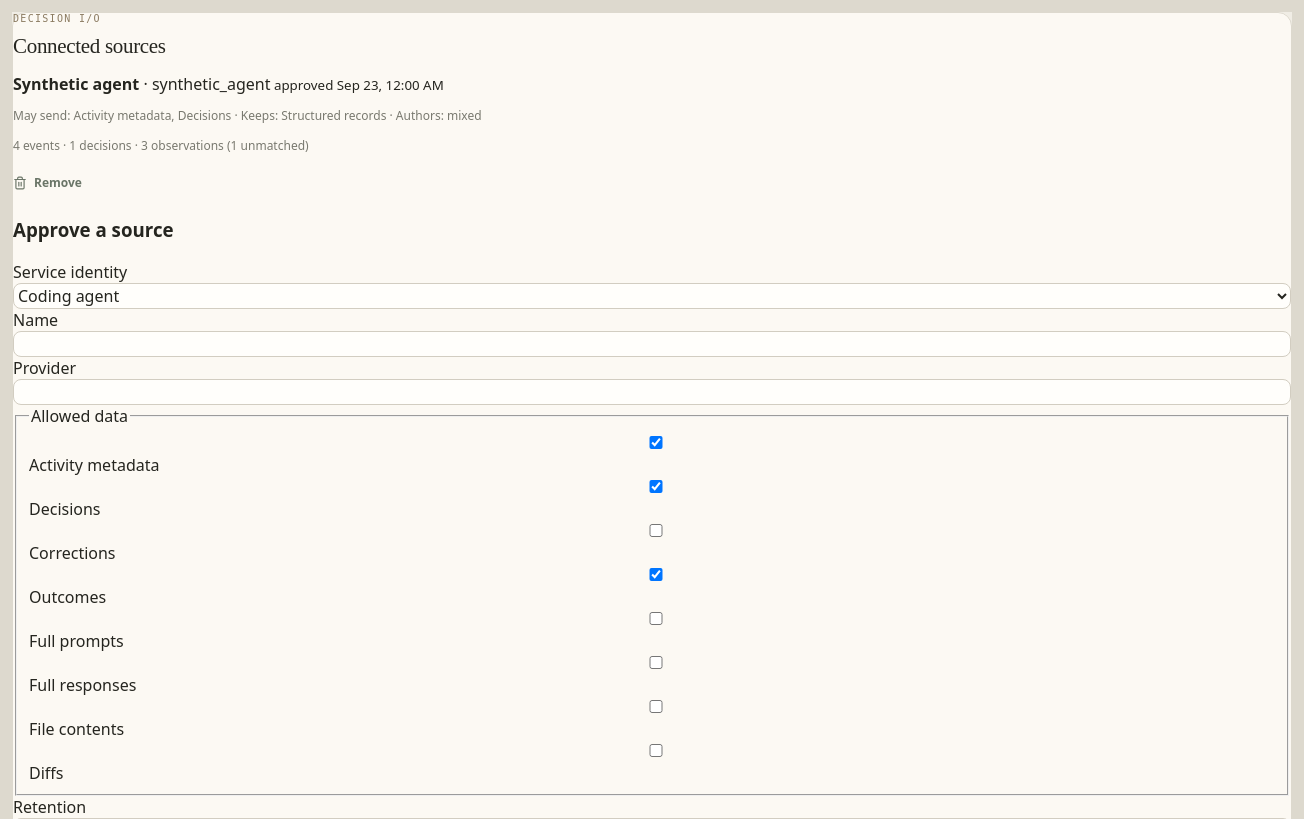
Scenario: Decision I/O sources panel › removes a source after confirmation
Note: the owner removes it
Click the button with aria-label "Remove Synthetic agent" at x=47, y=183, box 13,167 -> 82,198
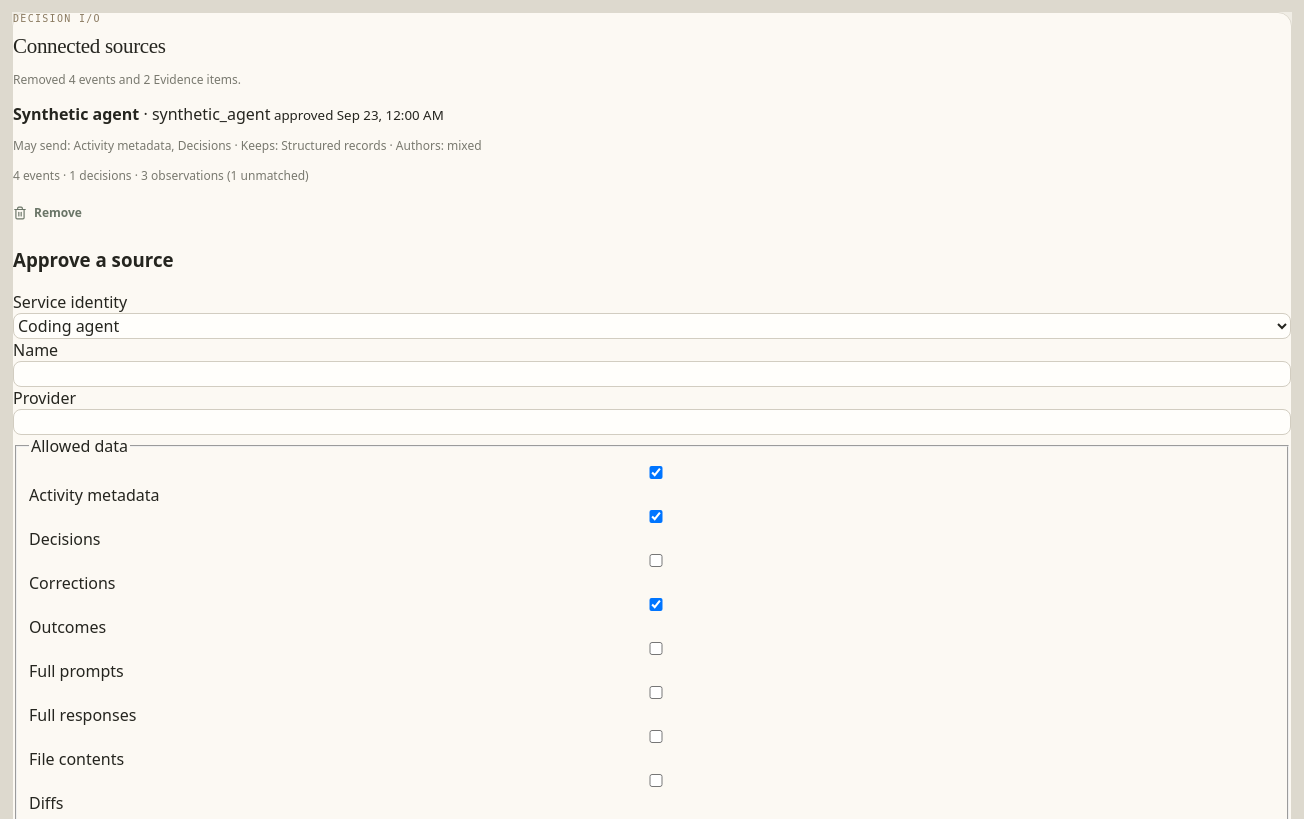
Now the text "Removed 4 events and 2 Evidence items." is shown, box 13,71 -> 241,88
